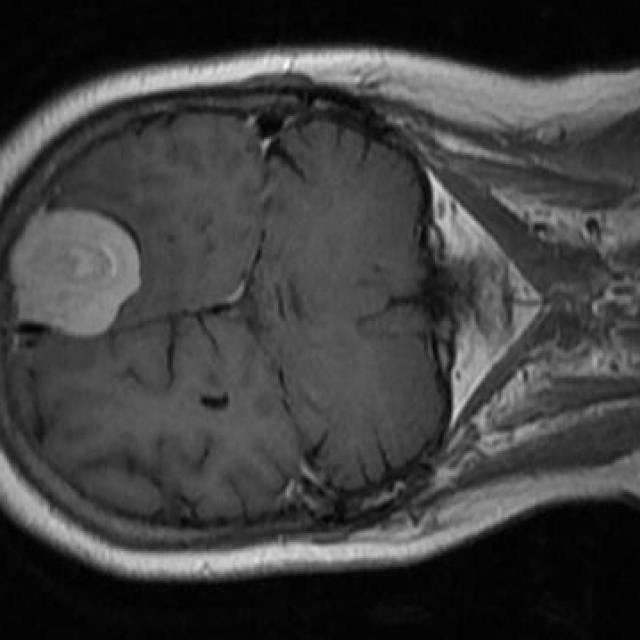meningioma: (12, 210, 141, 337)
